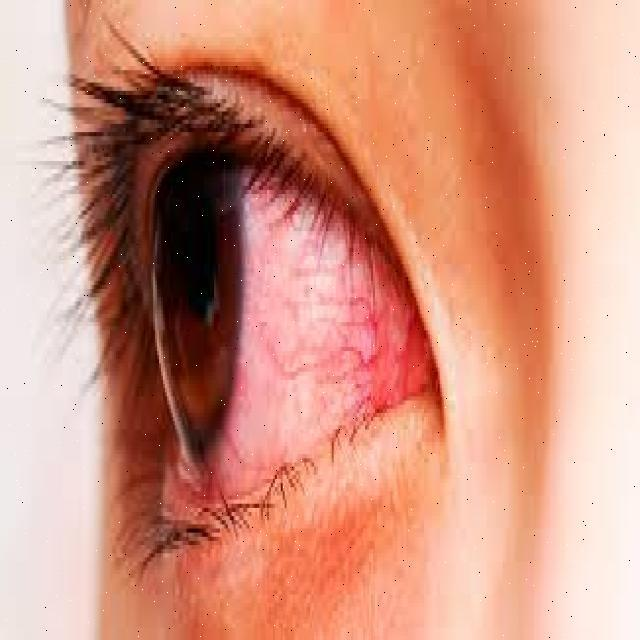Conjunctivitis: (124, 171, 423, 478)
